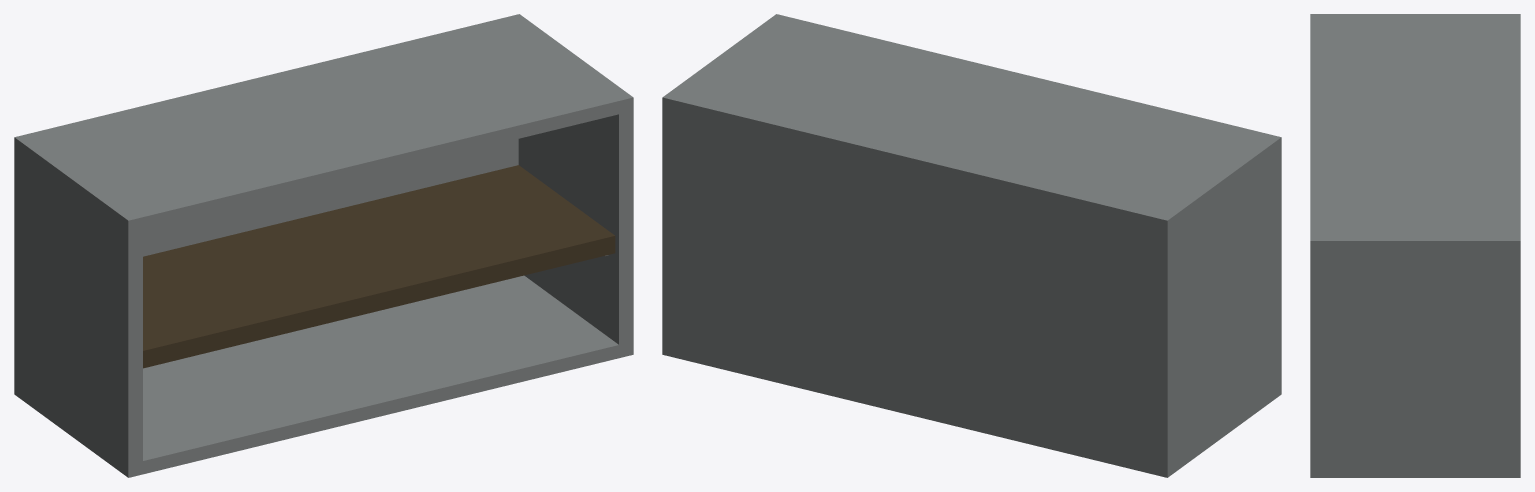
File: Shelf_Wall.fbx
The picture shows the model from 3 angles, left to right: view 1: azimuth 30°, elevation 25°; view 2: azimuth 150°, elevation 25°; view 3: azimuth 270°, elevation 25°; orthographic projection. The views are drawn at different scales.
Visible parts, largest first — view 1: Shelf_Enclosure_geo, Shelf_geo; view 2: Shelf_Enclosure_geo; view 3: Shelf_Enclosure_geo.
Boxes of the visible parts, box(x1,y1,x2,y2) form: Shelf_Enclosure_geo: box(14, 14, 633, 477); Shelf_geo: box(143, 165, 615, 368); Shelf_Enclosure_geo: box(662, 14, 1281, 477); Shelf_Enclosure_geo: box(1310, 14, 1520, 477).
Size of the model in its own units: 176 by 85.76 by 68.92.
